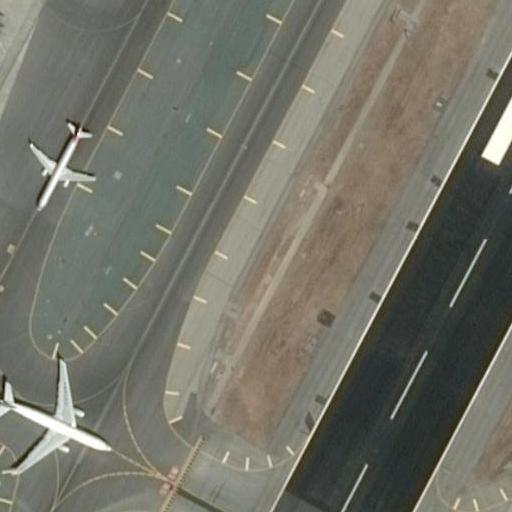Aircraft: (0, 349, 113, 477), (16, 112, 97, 208), (0, 0, 25, 1)
